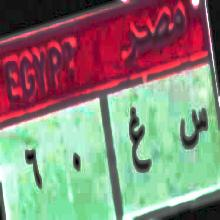0: (67, 142, 86, 188)
6: (23, 148, 43, 194)
ghayn: (124, 102, 152, 182)
seen: (178, 101, 208, 152)
